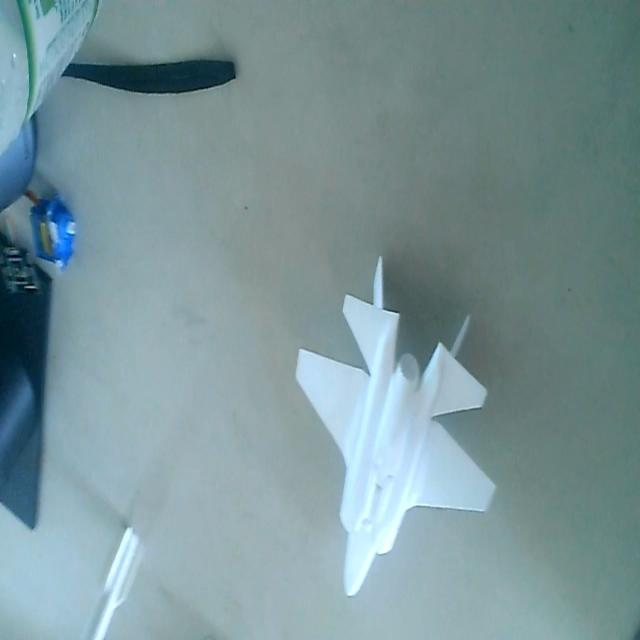Jet: (293, 256, 501, 602)
Rocket: (80, 514, 153, 640)
